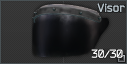Kolpak-1S visor: (0, 0, 127, 64)
